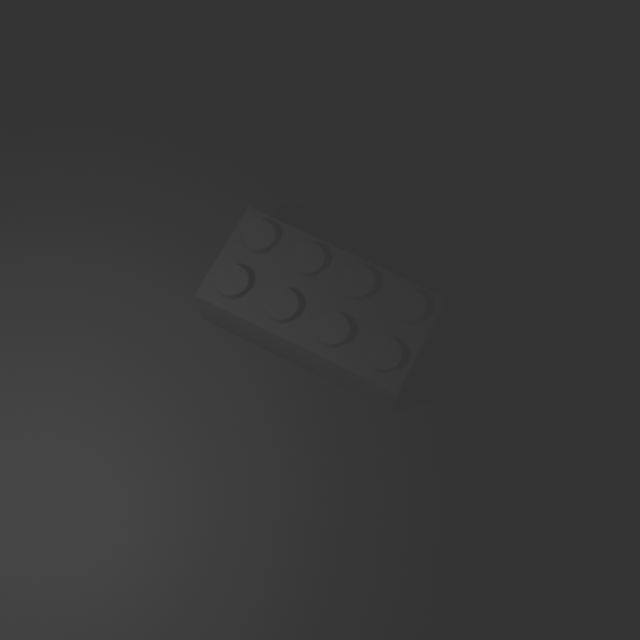lego_2x4: (193, 201, 447, 412)
